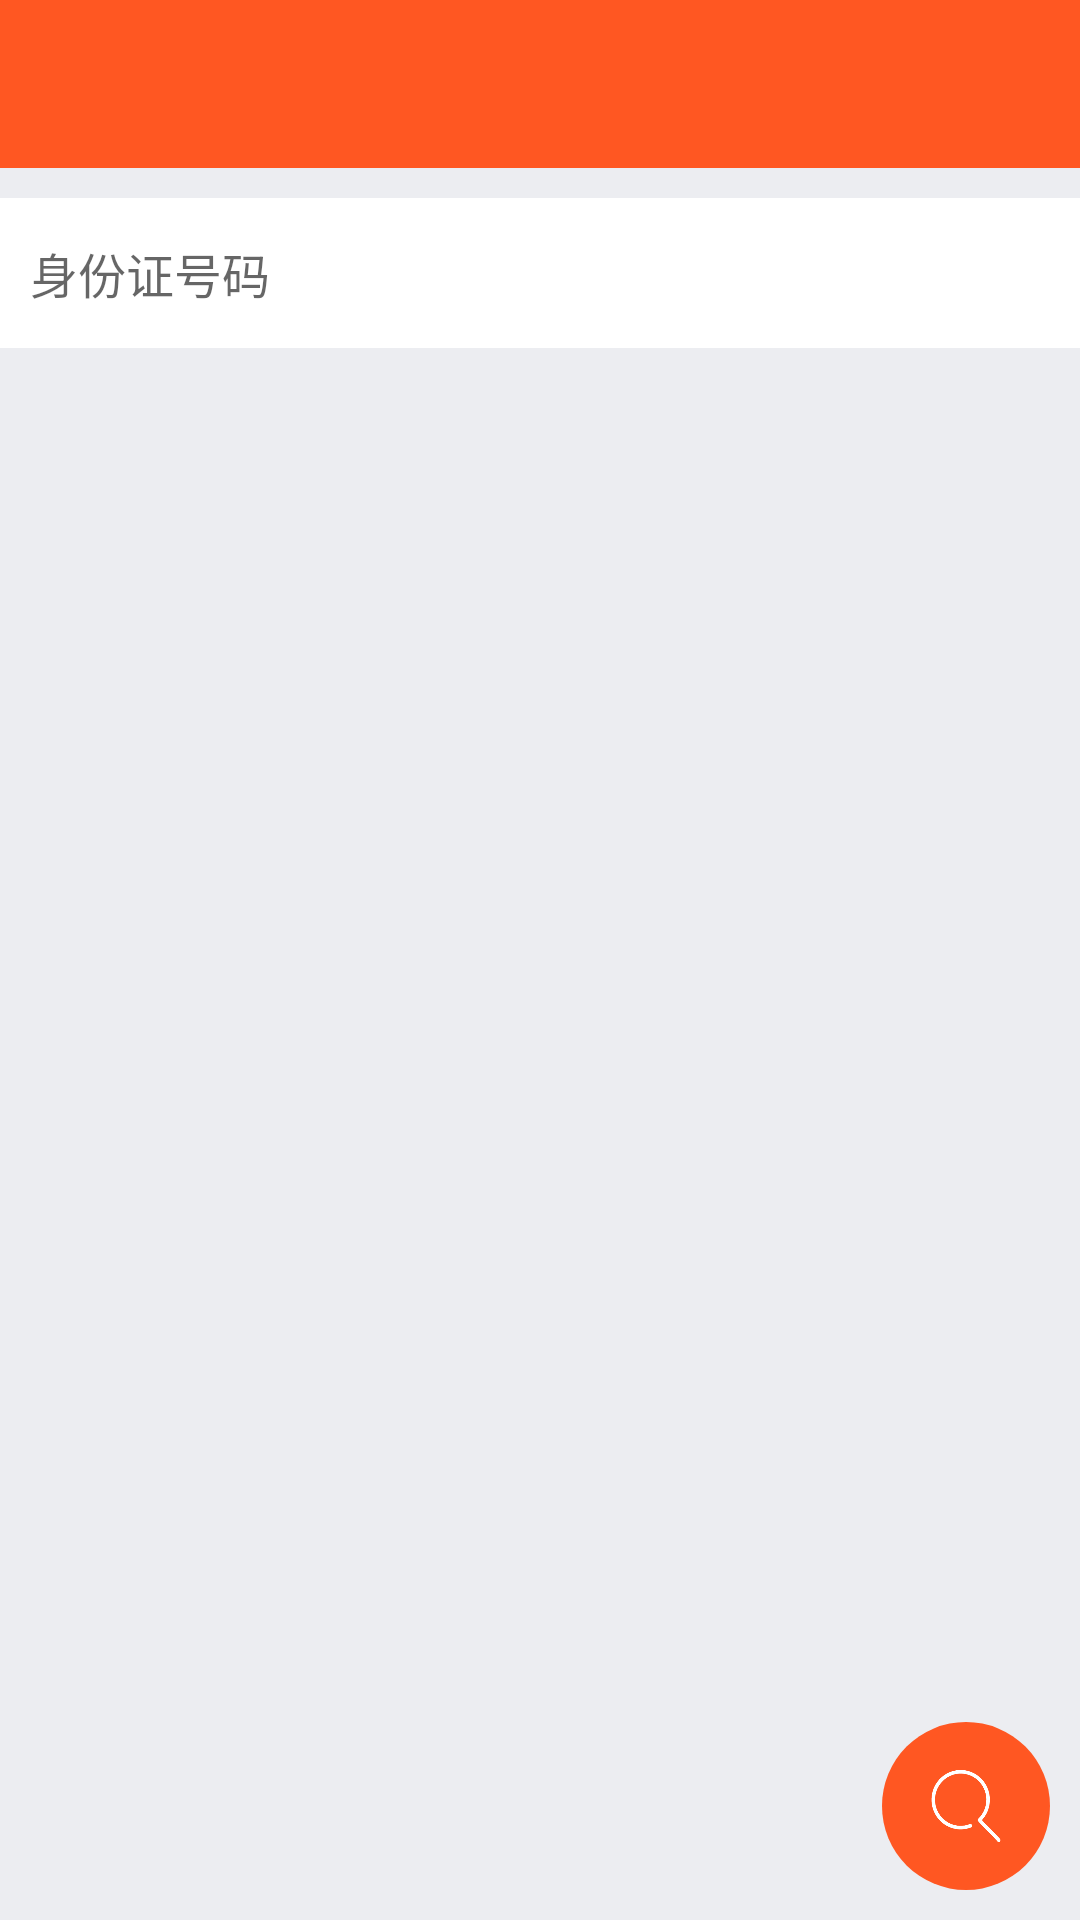

Point at icon controls on the screen. Image size 1080×1920, points as point (x, y).
search: point (966, 1806)
